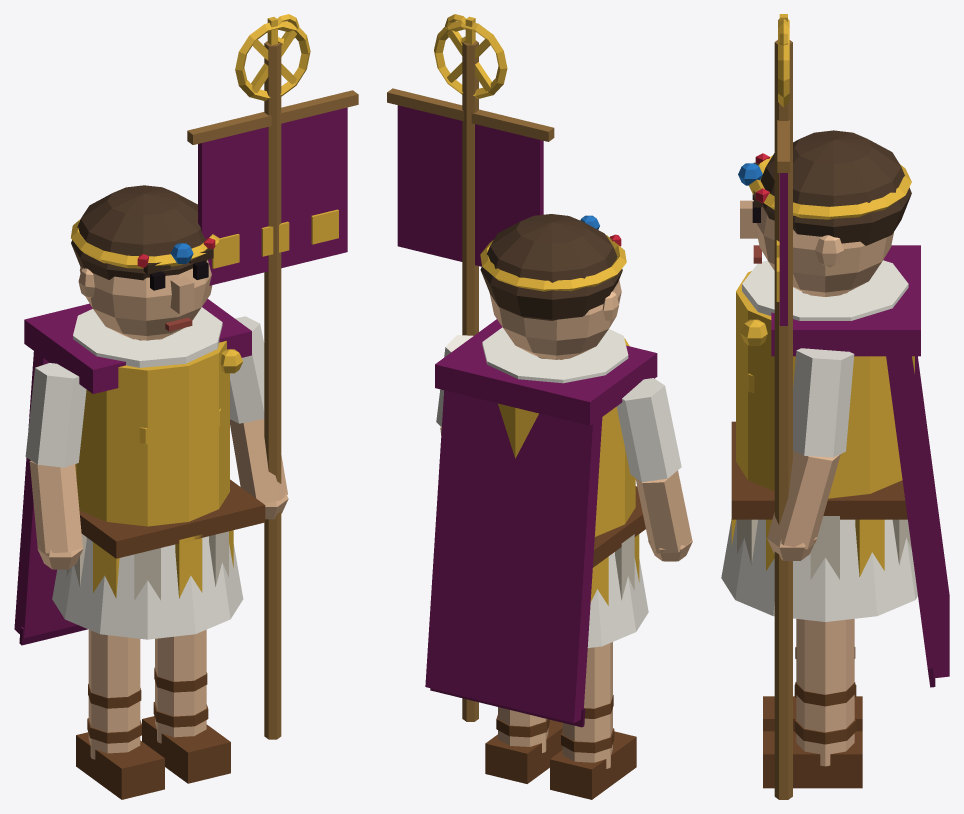
File: konstantyn.glb
3 views of the same model, side by side, from view 1: azimuth 30°, elevation 25°; view 2: azimuth 150°, elevation 25°; view 3: azimuth 270°, elevation 25° (orthographic). The views are drawn at different scales.
Parts seen in each view (by area): view 1: cialo, reka_p, glowa, noga_l, reka_l, noga_p, peleryna; view 2: peleryna, reka_p, cialo, glowa, reka_l, noga_l, noga_p; view 3: cialo, reka_p, glowa, noga_p, peleryna, noga_l.
Boxes of the visible parts, left/top/right/bottom form: cialo: left=24, top=299, right=265, bottom=639; reka_p: left=187, top=14, right=358, bottom=739; glowa: left=71, top=185, right=219, bottom=340; noga_l: left=76, top=630, right=164, bottom=799; reka_l: left=25, top=363, right=86, bottom=569; noga_p: left=142, top=629, right=230, bottom=783; peleryna: left=14, top=351, right=87, bottom=645; peleryna: left=425, top=390, right=602, bottom=727; reka_p: left=387, top=14, right=554, bottom=721; cialo: left=435, top=319, right=657, bottom=647; glowa: left=480, top=214, right=626, bottom=359; reka_l: left=617, top=378, right=692, bottom=561; noga_l: left=550, top=642, right=636, bottom=799; noga_p: left=485, top=707, right=562, bottom=783; cialo: left=721, top=245, right=920, bottom=621; reka_p: left=767, top=14, right=854, bottom=799; glowa: left=738, top=130, right=911, bottom=296; noga_p: left=763, top=619, right=862, bottom=788; peleryna: left=886, top=356, right=949, bottom=687; noga_l: left=763, top=647, right=862, bottom=731.
Bounding box in the file's own units: 0.936 × 2.12 × 0.5487.
